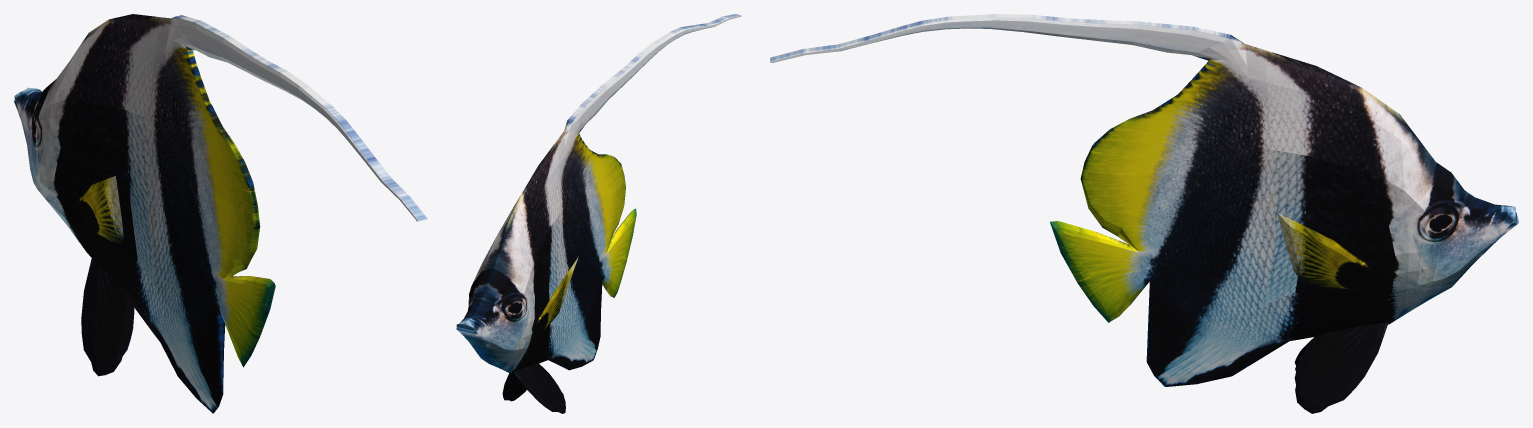
The model's file is heniochus-acuminatus.glb.
The picture shows the model from 3 angles, left to right: view 1: azimuth 30°, elevation 25°; view 2: azimuth 150°, elevation 25°; view 3: azimuth 270°, elevation 25°; orthographic projection. The views are drawn at different scales.
Parts seen in each view (by area): view 1: longfin bannerfish, banner, pelvic.l, pectoral.l; view 2: longfin bannerfish, banner, pelvic.l, pectoral.l, pelvic.r; view 3: longfin bannerfish, banner, pelvic.r, pectoral.r.
Boxes of the visible parts, <box> form: longfin bannerfish: <box>14,14,275,413</box>; banner: <box>175,15,427,221</box>; pelvic.l: <box>81,258,134,376</box>; pectoral.l: <box>76,176,123,243</box>; longfin bannerfish: <box>456,120,636,374</box>; banner: <box>567,14,741,123</box>; pelvic.l: <box>514,363,565,413</box>; pectoral.l: <box>536,257,578,335</box>; pelvic.r: <box>502,361,539,401</box>; longfin bannerfish: <box>1050,35,1518,386</box>; banner: <box>770,14,1230,62</box>; pelvic.r: <box>1294,322,1388,413</box>; pectoral.r: <box>1277,212,1371,288</box>.
Bounding box in the file's own units: 0.0574 × 0.287 × 0.5105.
Materials: 1 (1 with a texture image).
